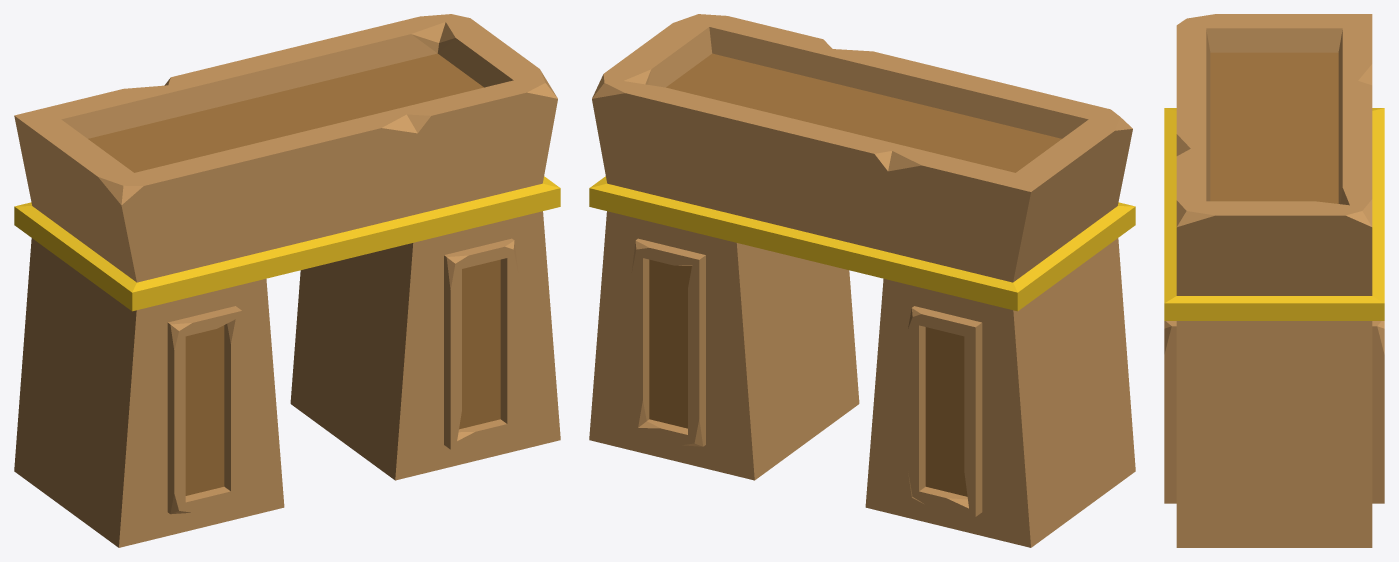
Rendered from egypt-gate.glb.
3 renders of one model, left to right at view 1: azimuth 30°, elevation 25°; view 2: azimuth 150°, elevation 25°; view 3: azimuth 270°, elevation 25°, orthographic. The views are drawn at different scales.
Parts seen in each view (by area): view 1: egypt-gate; view 2: egypt-gate; view 3: egypt-gate.
Part boxes in pixels (bbox=[...]): egypt-gate: bbox=[14, 14, 560, 547]; egypt-gate: bbox=[589, 14, 1135, 547]; egypt-gate: bbox=[1164, 14, 1384, 547].
Bounding box in the file's own units: 19.5 × 15 × 9.
Materials: 1 (1 with a texture image).
